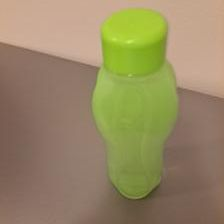bottle: (91, 8, 180, 199)
